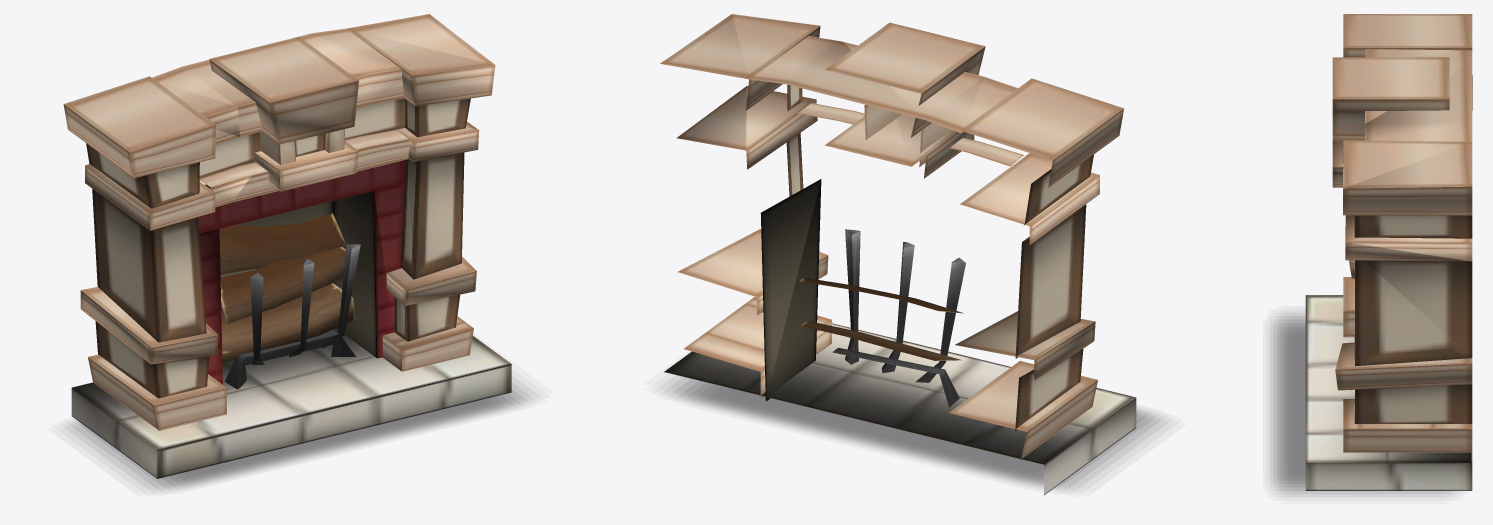
File: FireplaceSq.glb
The picture shows the model from 3 angles, left to right: view 1: azimuth 30°, elevation 25°; view 2: azimuth 150°, elevation 25°; view 3: azimuth 270°, elevation 25°; orthographic projection. The views are drawn at different scales.
Visible parts, largest first — view 1: FireplaceSquare, pPlane1; view 2: FireplaceSquare, pPlane1; view 3: FireplaceSquare, pPlane1.
Part boxes in pixels (x1,y1,x2,y2): FireplaceSquare: [63, 14, 511, 478]; pPlane1: [67, 382, 532, 490]; FireplaceSquare: [660, 14, 1136, 495]; pPlane1: [666, 377, 1166, 489]; FireplaceSquare: [1305, 14, 1472, 490]; pPlane1: [1270, 313, 1456, 494].
Bounding box in the file's own units: 11.08 × 7.83 × 4.93.
6 materials, 6 textured.
